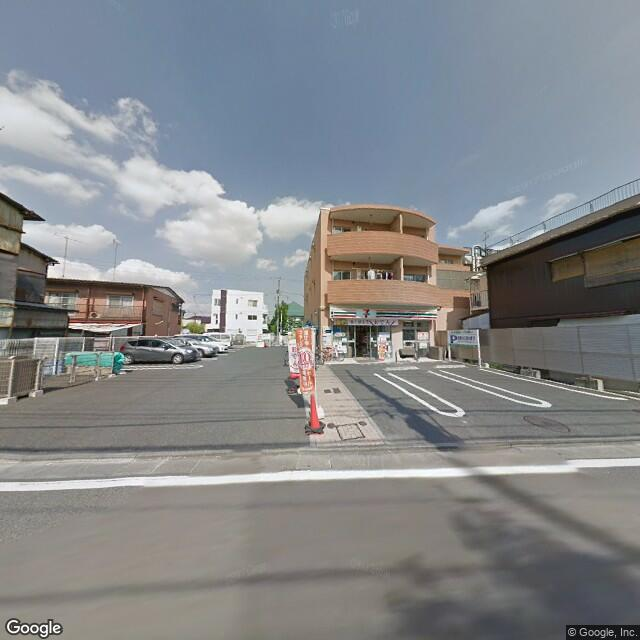7-eleven: (330, 302, 440, 323)
